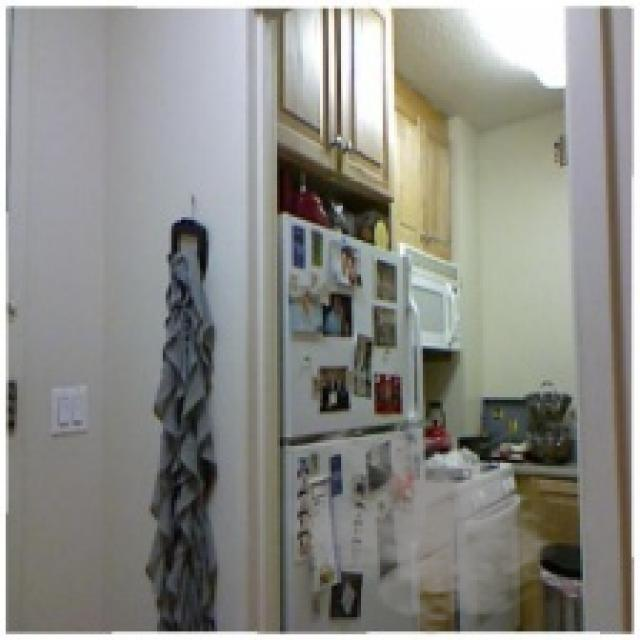smoke: (277, 423, 560, 637)
